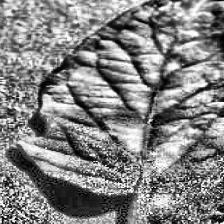leaf mold: (15, 0, 224, 224), (63, 170, 66, 171)
